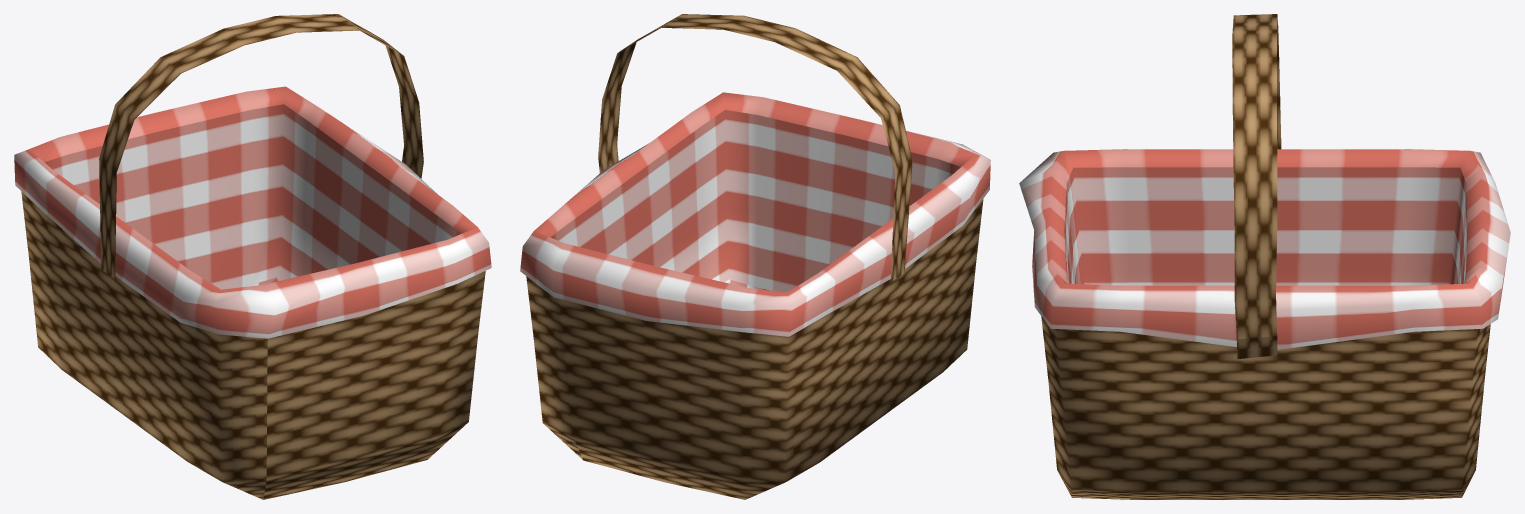
Rendered from SM_Picnic_Basket.fbx.
The picture shows the model from 3 angles, left to right: view 1: azimuth 30°, elevation 25°; view 2: azimuth 150°, elevation 25°; view 3: azimuth 270°, elevation 25°; orthographic projection. The views are drawn at different scales.
Visible parts, largest first — view 1: Cube, Cube.001, Cube.003; view 2: Cube, Cube.001, Cube.003; view 3: Cube, Cube.001, Cube.003.
Part boxes in pixels (left/top/right/bottom): Cube: left=14, top=86, right=491, bottom=338; Cube.001: left=21, top=191, right=485, bottom=499; Cube.003: left=99, top=14, right=423, bottom=278; Cube: left=520, top=92, right=990, bottom=336; Cube.001: left=526, top=199, right=983, bottom=499; Cube.003: left=598, top=14, right=912, bottom=282; Cube: left=1019, top=149, right=1510, bottom=349; Cube.001: left=1041, top=316, right=1490, bottom=499; Cube.003: left=1232, top=14, right=1281, bottom=359.
Size of the model in its own units: 58.61 by 71.79 by 77.55.
